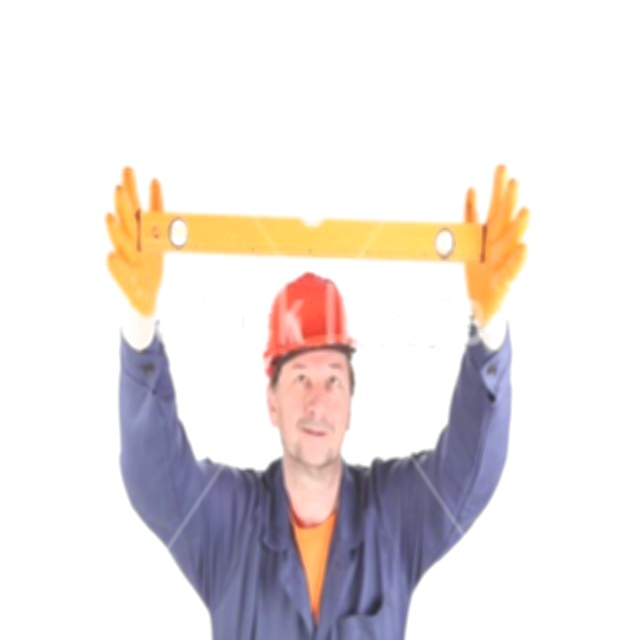Sin_Chaleco: (199, 449, 417, 640)
